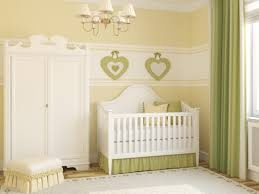crib: (96, 84, 199, 173)
